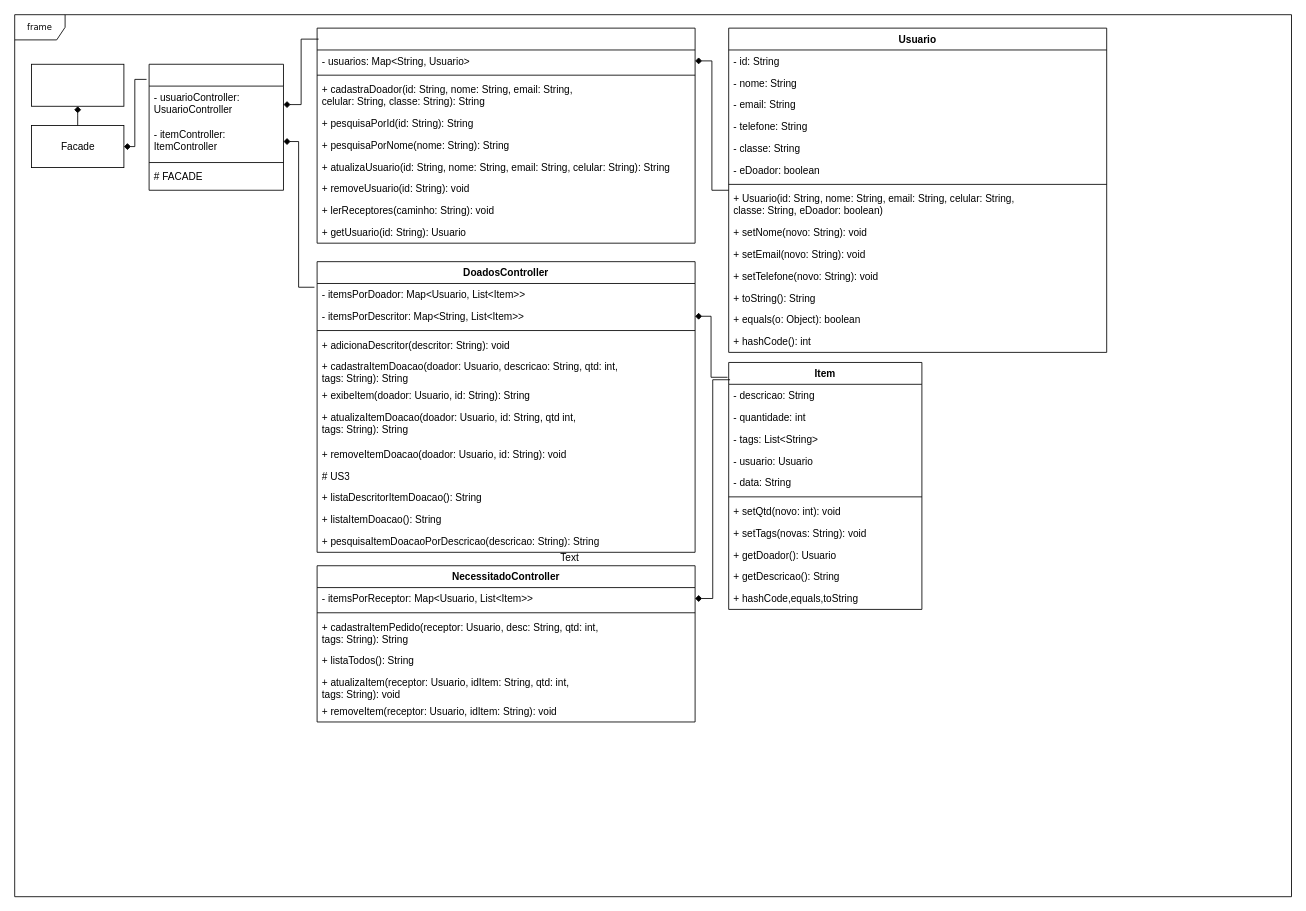
This 1306x911 diagram has some shape labels left out. The box of each missing label's shape, as (x1, y1, x2, y2) in pixels:
Main: (31, 63, 124, 106)
Mediator: (148, 63, 284, 190)
UsuarioController: (316, 27, 695, 243)
